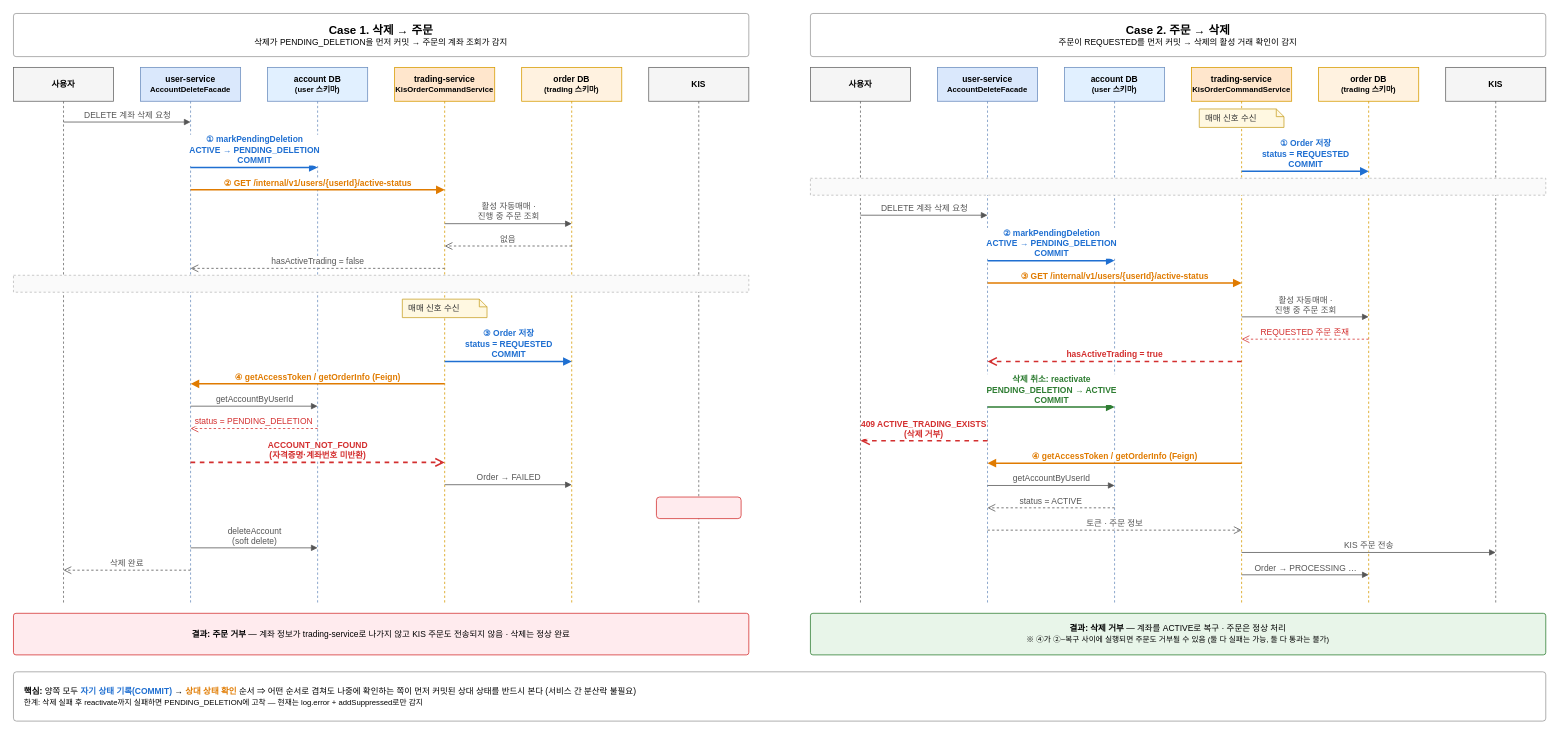
Some shapes in this 1559 by 735 pixel diagram are drawn without their labels. Here are the shapes that lost their labels. From the top down, the box of each, then its label:
(810, 177, 1546, 195): ─ ─ 주문 처리(계좌 조회) 전에 삭제 요청 유입 ─ ─
(13, 275, 749, 292): ─ ─ 활성 거래 확인 ~ 실제 삭제 사이에 주문 유입 ─ ─
(656, 496, 741, 519): 주문 미전송
